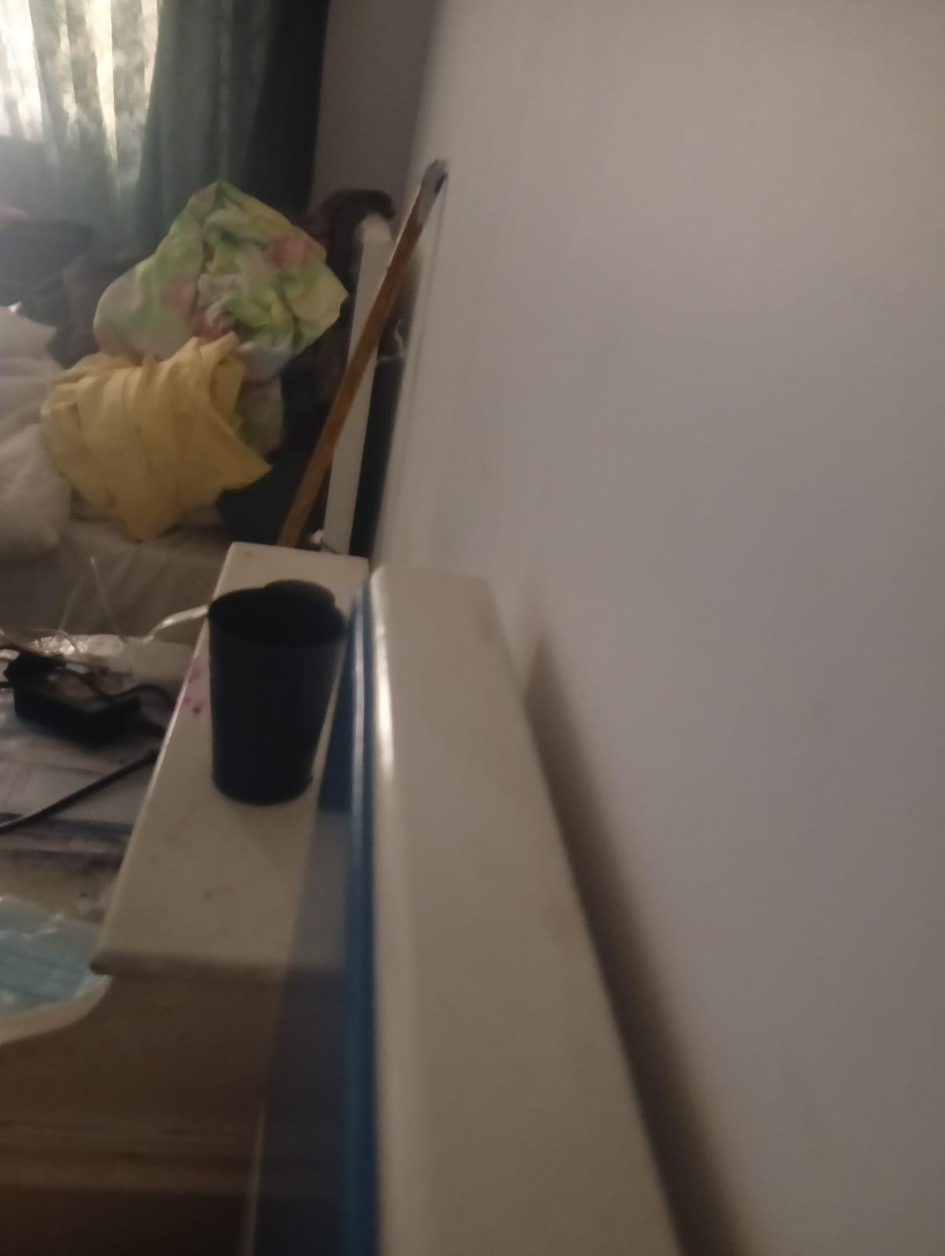cup: (207, 580, 345, 803)
